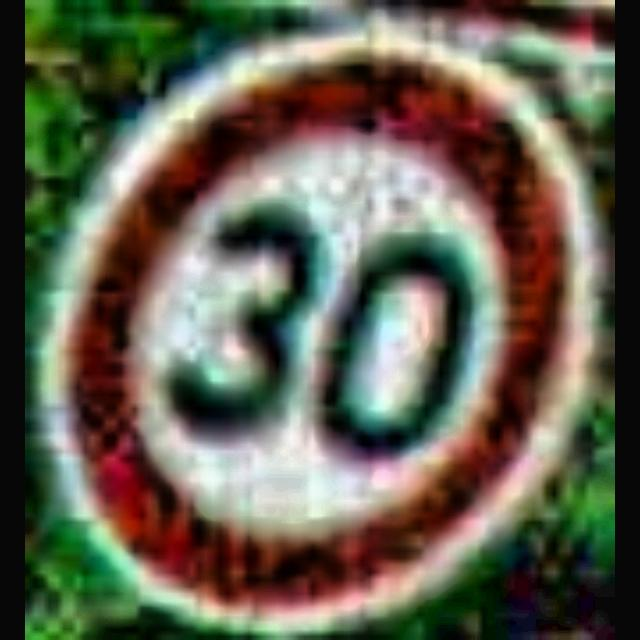speed_30: (66, 40, 594, 612)
